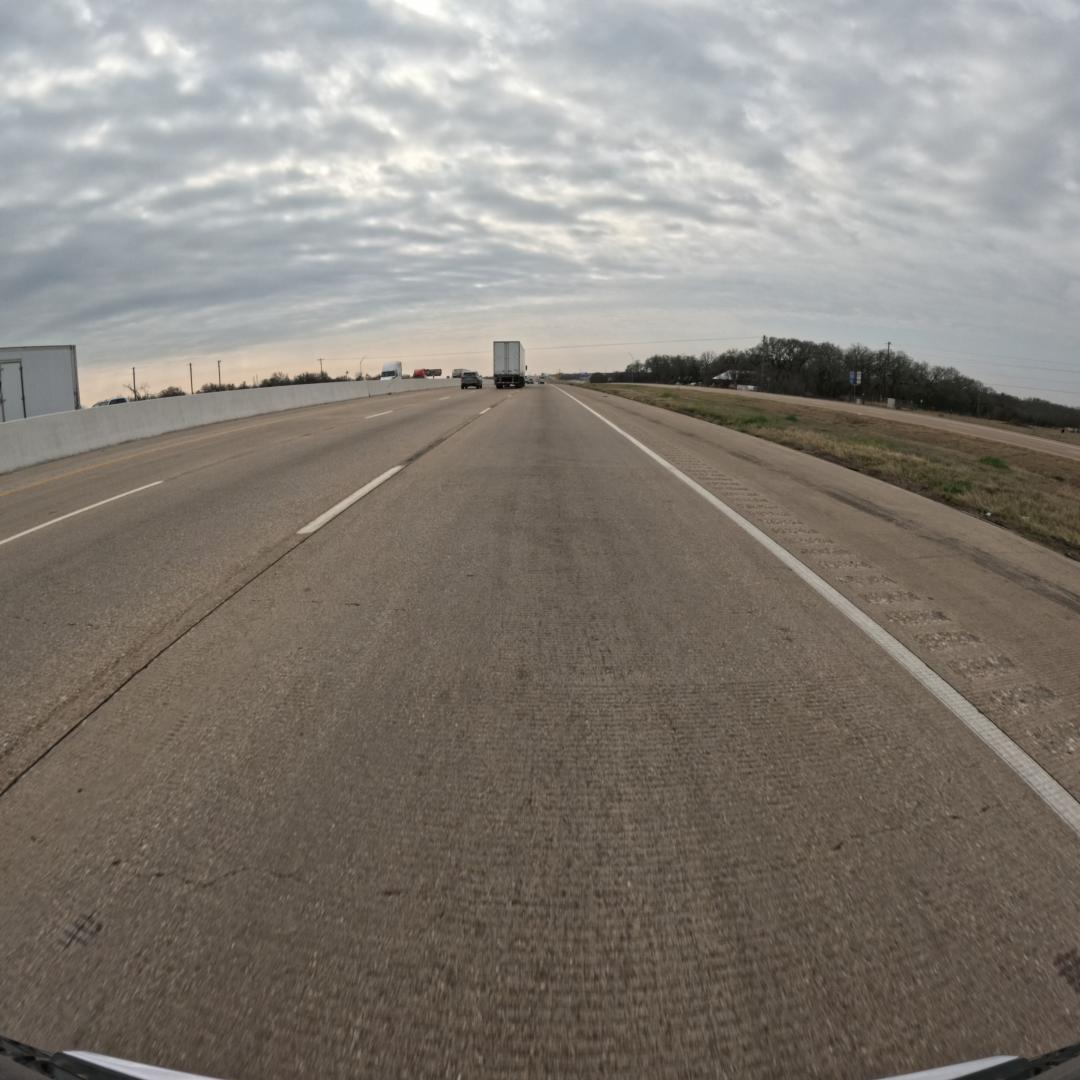lane0: (0, 388, 1080, 1076)
lane1: (0, 393, 488, 795)
